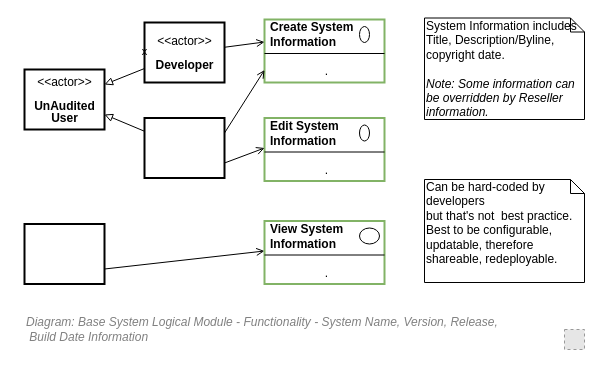
The diagram is 602 pixels wide and 367 high, and some of its shapes have lost their labels. Grey dashed boxes stand in for pictures. The shapes that lost their labels are listed below. From the top down, each one's centre as x and y in pixels, then its label:
At (x=184, y=147): "<<actor>> Deployment Pipeline Daemon".
At (x=64, y=253): "<<actor>> Unauthenticated User".
